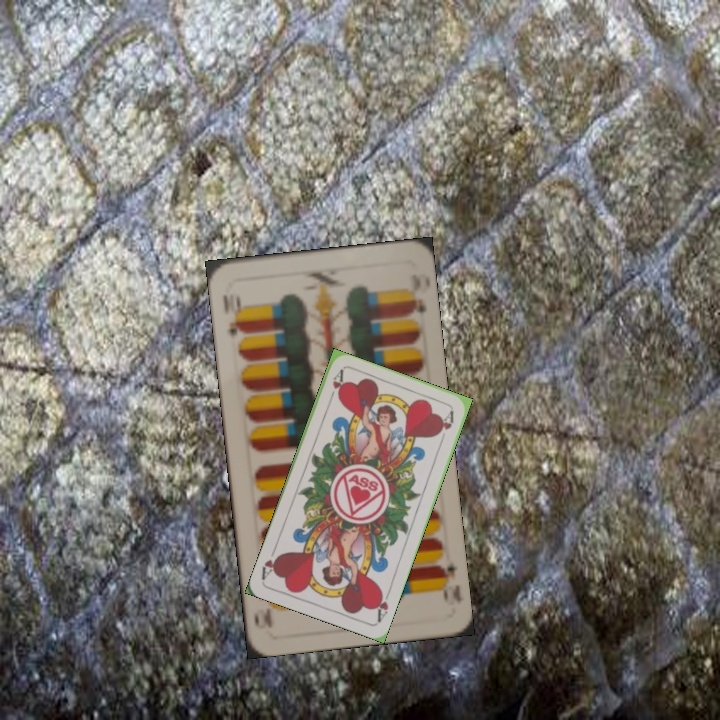E10: (432, 551, 461, 605), (219, 290, 247, 341)
HA: (371, 585, 394, 625), (324, 366, 346, 406)
